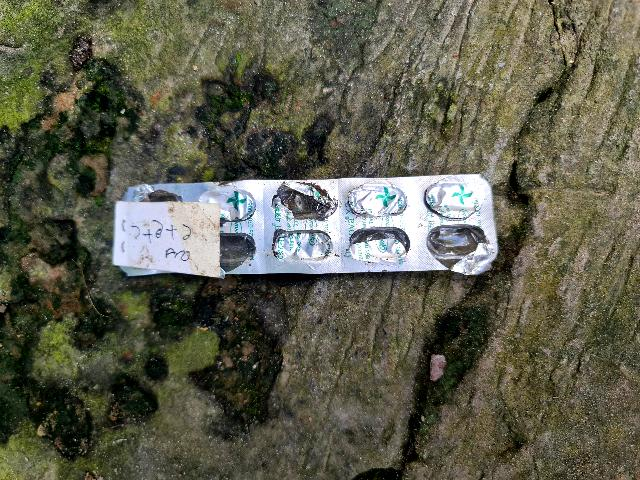medicine: (110, 162, 517, 284)
